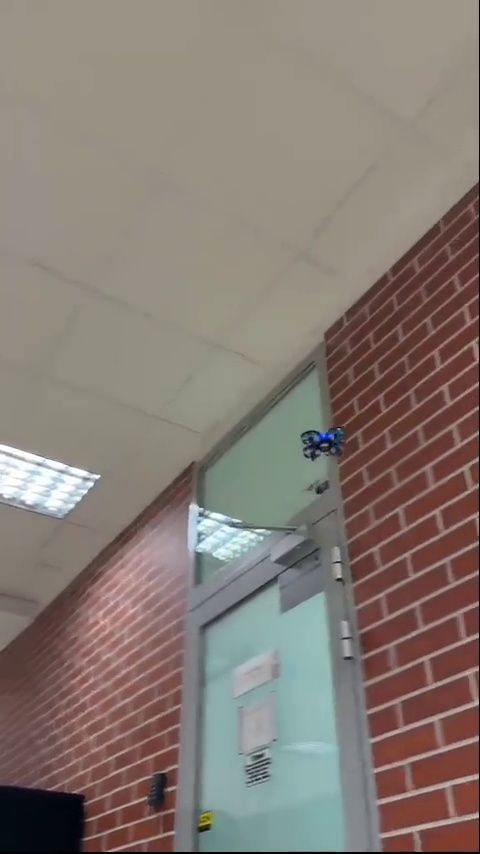drone: (301, 425, 349, 461)
